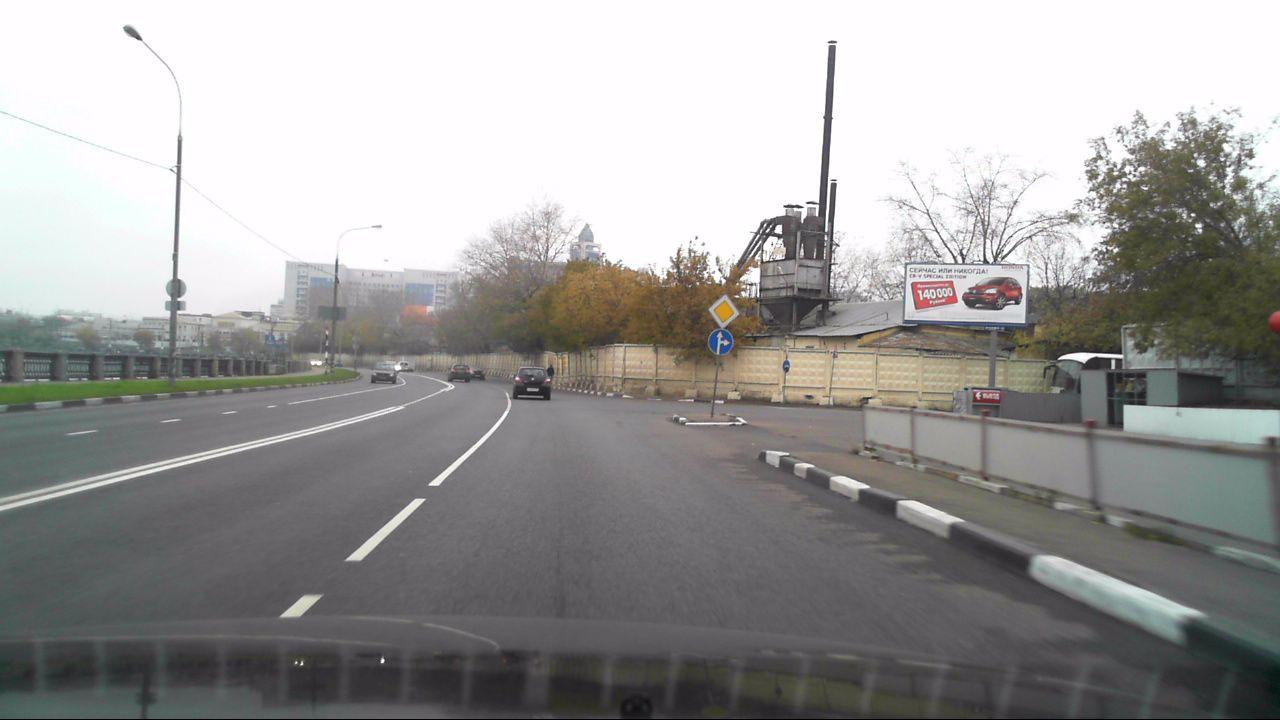2_1: (705, 291, 738, 326)
4_1_4: (706, 327, 733, 356)
